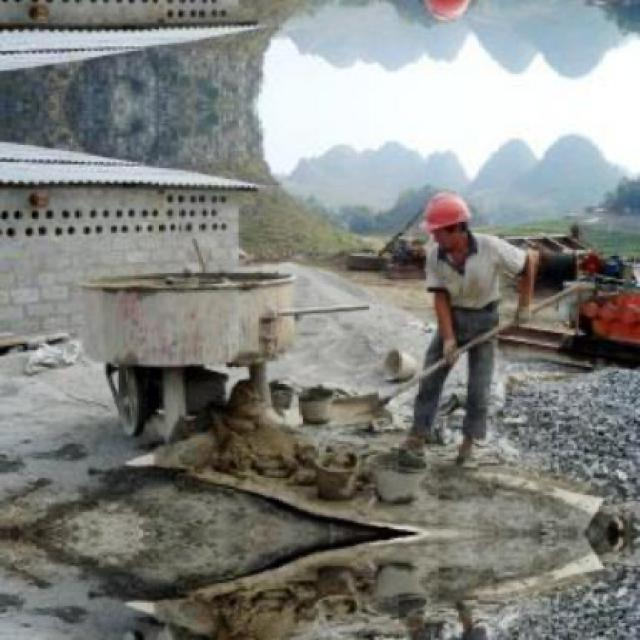helmet: (423, 190, 474, 259), (423, 0, 475, 25)
